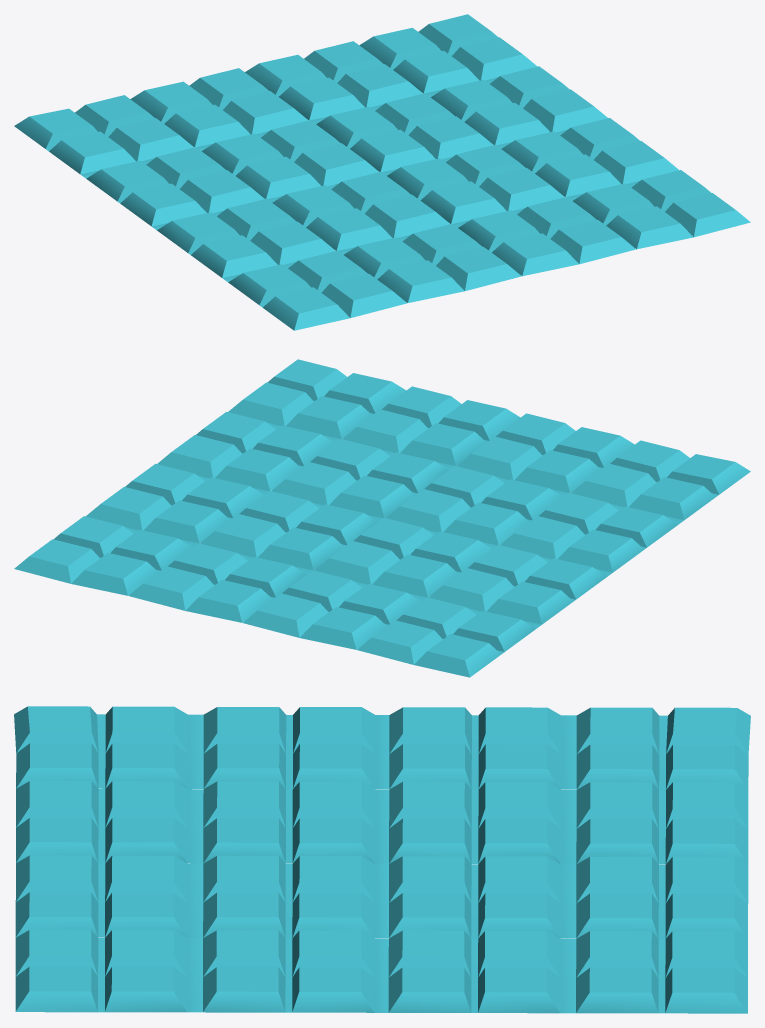
File: Keypad.fbx
The picture shows the model from 3 angles, top to bottom: view 1: azimuth 30°, elevation 25°; view 2: azimuth 150°, elevation 25°; view 3: azimuth 270°, elevation 25°; orthographic projection. The views are drawn at different scales.
Visible parts, largest first — view 1: Keyboard; view 2: Keyboard; view 3: Keyboard.
Part boxes in pixels (x1,y1,x2,y2): Keyboard: [14, 14, 750, 330]; Keyboard: [14, 359, 750, 677]; Keyboard: [14, 706, 750, 1013].
Size of the model in its own units: 0.3618 by 0.0125 by 0.3841.
